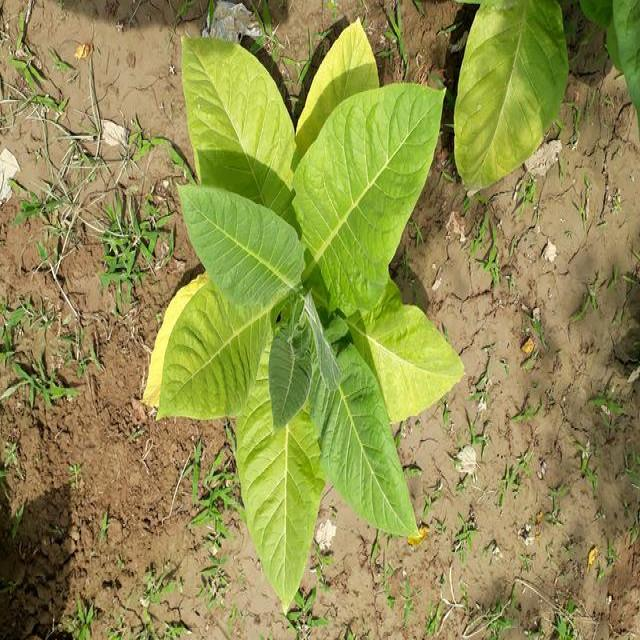crop: (150, 34, 459, 590), (450, 0, 640, 186)
